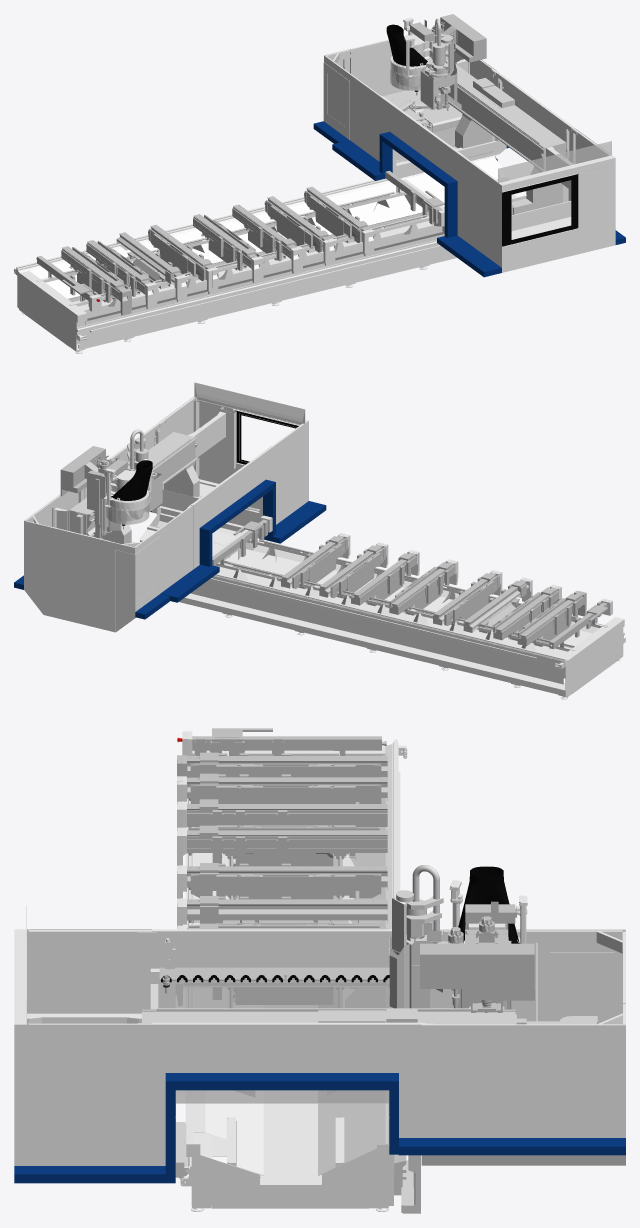
The picture shows the model from 3 angles, top to bottom: view 1: azimuth 30°, elevation 25°; view 2: azimuth 150°, elevation 25°; view 3: azimuth 270°, elevation 25°; orthographic projection. The views are drawn at different scales.
Parts seen in each view (by area): view 1: Basamento_Portale_ProtezioneTraslante, A500, Basamento_Portale, Basamento_Portale_CarroY_CarroZG, Basamento_BarreTonde_BarraSx(3), Basamento_BarreTonde_BarraDx(4), Basamento_BarreTonde_BarraDx(3), Basamento_BarreTonde_BarraSx, Basamento_BarreTonde_BarraDx(2), Basamento_BarreTonde_BarraSx(2), Basamento_BarreTonde_BarraSx(4), Basamento_BarreTonde_BarraDx (+8 smaller); view 2: Basamento_Portale_ProtezioneTraslante, A500, Basamento_Portale, Basamento_Portale_CarroY, Basamento_BarreTonde_BarraSx(3), Basamento_BarreTonde_BarraSx, Basamento_BarreTonde_BarraDx(4), Basamento_BarreTonde_BarraDx(3), Basamento_BarreTonde_BarraDx(2), Basamento_BarreTonde_BarraSx(4), Basamento_BarreTonde_BarraDx, Basamento_BarreTonde_BarraSx(2) (+7 smaller); view 3: Basamento_Portale_ProtezioneTraslante, A500, Basamento_Portale_CarroY, Basamento_Portale, Basamento_BarreTonde_BarraDx(2), Basamento_BarreTonde_BarraSx(3), Basamento_BarreTonde_BarraSx(2), Basamento_BarreTonde_BarraSx(4), Basamento_Portale_CarroY_CarroZG, Basamento_BarreTonde_BarraDx, Basamento_BarreTonde_BarraSx, Basamento_Portale_MagazzinoInternoX1 (+5 smaller).
Part boxes in pixels (x1,y1,x2,y2): Basamento_Portale_ProtezioneTraslante: [313, 29, 625, 277]; A500: [14, 156, 516, 353]; Basamento_Portale: [448, 64, 566, 214]; Basamento_Portale_CarroY_CarroZG: [420, 18, 457, 109]; Basamento_BarreTonde_BarraSx(3): [193, 214, 263, 283]; Basamento_BarreTonde_BarraDx(4): [304, 186, 374, 256]; Basamento_BarreTonde_BarraDx(3): [264, 196, 335, 265]; Basamento_BarreTonde_BarraSx: [61, 246, 131, 315]; Basamento_BarreTonde_BarraDx(2): [148, 224, 218, 294]; Basamento_BarreTonde_BarraSx(2): [86, 240, 157, 309]; Basamento_BarreTonde_BarraSx(4): [232, 204, 302, 273]; Basamento_BarreTonde_BarraDx: [116, 232, 187, 301]; Basamento_Portale_ProtezioneTraslante: [14, 382, 326, 632]; A500: [139, 506, 625, 699]; Basamento_Portale: [69, 432, 201, 543]; Basamento_Portale_CarroY: [60, 446, 121, 538]; Basamento_BarreTonde_BarraSx(3): [389, 559, 458, 615]; Basamento_BarreTonde_BarraSx: [517, 590, 586, 646]; Basamento_BarreTonde_BarraDx(4): [281, 533, 350, 589]; Basamento_BarreTonde_BarraDx(3): [319, 542, 388, 598]; Basamento_BarreTonde_BarraDx(2): [433, 570, 502, 625]; Basamento_BarreTonde_BarraSx(4): [351, 550, 419, 606]; Basamento_BarreTonde_BarraDx: [463, 577, 532, 633]; Basamento_BarreTonde_BarraSx(2): [493, 584, 561, 640]; Basamento_Portale_ProtezioneTraslante: [14, 905, 625, 1183]; A500: [180, 739, 407, 1211]; Basamento_Portale_CarroY: [420, 916, 534, 1012]; Basamento_Portale: [142, 1008, 515, 1213]; Basamento_BarreTonde_BarraDx(2): [177, 825, 387, 866]; Basamento_BarreTonde_BarraSx(3): [177, 863, 387, 899]; Basamento_BarreTonde_BarraSx(2): [177, 773, 387, 804]; Basamento_BarreTonde_BarraSx(4): [177, 896, 387, 928]; Basamento_Portale_CarroY_CarroZG: [389, 865, 447, 1008]; Basamento_BarreTonde_BarraDx: [177, 799, 387, 830]; Basamento_BarreTonde_BarraSx: [177, 752, 387, 777]; Basamento_Portale_MagazzinoInternoX1: [150, 967, 389, 1009].
Bounding box in the file's own units: 8.09 × 2.8 × 5.01.
